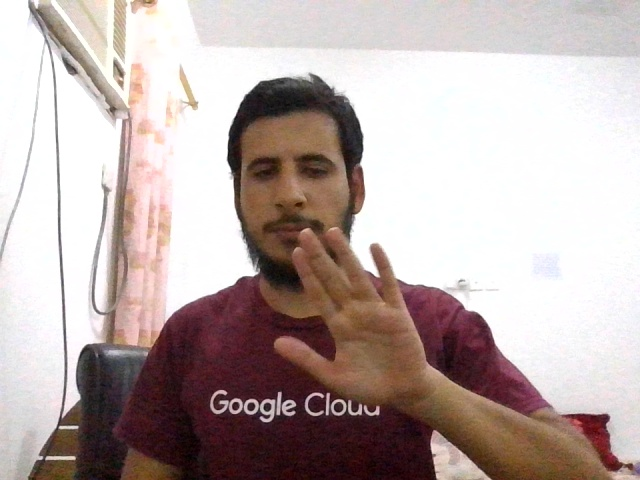Five: (273, 227, 427, 405)
